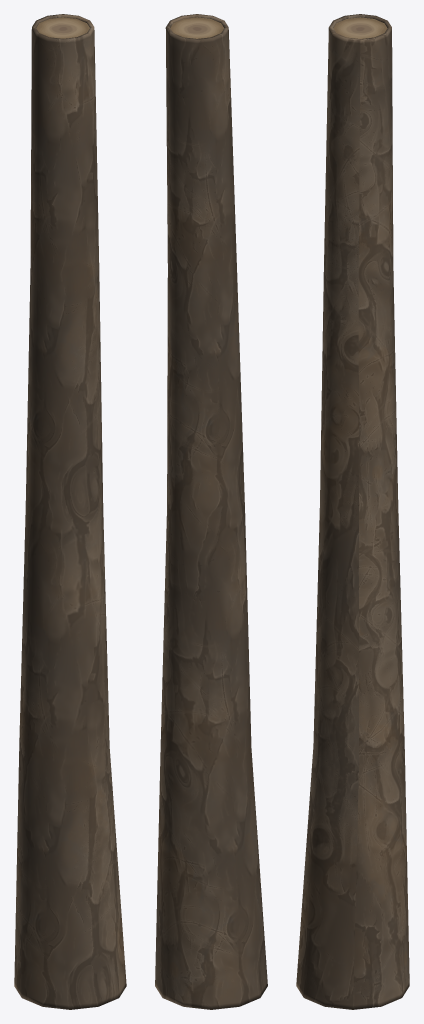
Rendered from tree02_log.fbx.
3 renders of one model, left to right at view 1: azimuth 90°, elevation 25°; view 2: azimuth 150°, elevation 25°; view 3: azimuth 270°, elevation 25°, orthographic.
Visible parts, largest first — view 1: Cylinder.007; view 2: Cylinder.007; view 3: Cylinder.007.
Boxes of the visible parts, box(x1,y1,x2,y2) form: Cylinder.007: box(14, 14, 126, 1009); Cylinder.007: box(155, 14, 267, 1009); Cylinder.007: box(296, 14, 409, 1009).
Size of the model in its own units: 32.02 by 300 by 32.02.
